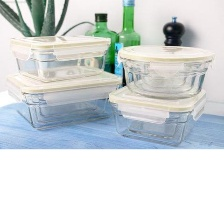bottle: (113, 0, 142, 71), (87, 9, 117, 71)
plastic_box: (1, 63, 127, 132), (102, 74, 217, 148), (114, 39, 218, 103), (5, 30, 114, 86)
